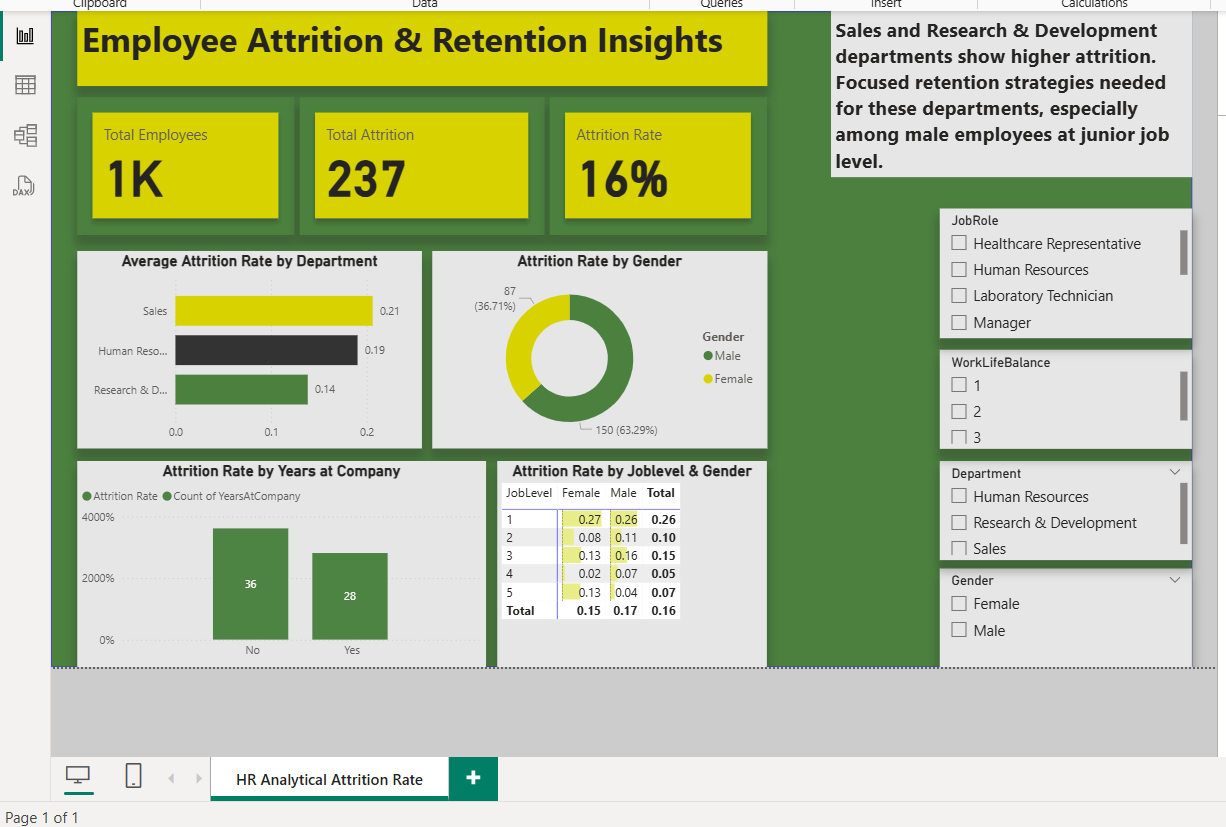

Layout of this report page (visuals, bound fields, positions):
{"tool":"powerbi","page":{"name":"HR Analytical Attrition Rate","canvas":[1280,720],"ordinal":0},"visuals":[{"type":"shape","box":[0,0,1252.8,720.4],"z":0},{"type":"textbox","box":[28.8,0,757.5,82.3],"z":1000},{"type":"cardVisual","fields":{"Data":["hranalytics.Total Employees"]},"box":[28.8,94.7,238.8,150.9],"z":2000},{"type":"slicer","fields":{"Values":["hranalytics.Gender"]},"box":[975.6,612,277.2,108.4],"z":3000},{"type":"slicer","fields":{"Values":["hranalytics.Department"]},"box":[975.6,494,277.2,108.4],"z":4000},{"type":"slicer","fields":{"Values":["hranalytics.WorkLifeBalance"]},"box":[975.6,371.9,277.2,108.4],"z":5000},{"type":"slicer","fields":{"Values":["hranalytics.JobRole"]},"box":[975.6,216.8,277.2,142.7],"z":6000},{"type":"cardVisual","fields":{"Data":["hranalytics.Total Attrition"]},"box":[273.1,94.7,269,150.9],"z":7000},{"type":"cardVisual","fields":{"Data":["hranalytics.Attrition Rate"]},"box":[547.5,94.7,238.8,150.9],"z":8000},{"type":"barChart","title":" Average Attrition Rate by Department","fields":{"Y":["Avg(hranalytics.Attrition Flag)"],"Category":["hranalytics.Department"]},"box":[28.8,263.5,378.7,216.8],"z":9000},{"type":"donutChart","title":" Attrition Rate by Gender","fields":{"Category":["hranalytics.Gender"],"Y":["Sum(hranalytics.Attrition Flag)"]},"box":[418.5,263.5,367.8,216.8],"z":10000},{"type":"pivotTable","title":"Attrition Rate by Joblevel & Gender","fields":{"Rows":["hranalytics.JobLevel"],"Columns":["hranalytics.Gender"],"Values":["Avg(hranalytics.Attrition Flag)"]},"box":[489.9,494,296.4,226.4],"z":11000},{"type":"columnChart","title":"Attrition Rate by Years at Company","fields":{"Y":["hranalytics.Attrition Rate","Count(hranalytics.YearsAtCompany)"],"Category":["hranalytics.Attrition"]},"box":[28.8,494,448.7,226.4],"z":12000},{"type":"textbox","box":[856.3,0,396.6,182.5],"z":13000}]}

Visuals, with their boxes in screenshot pixels (x1, y1, x2, y2):
shape: 48:6:1189:663
textbox: 74:6:764:81
cardVisual - hranalytics.Total Employees: 74:93:292:230
slicer - hranalytics.Gender: 937:564:1189:663
slicer - hranalytics.Department: 937:456:1189:555
slicer - hranalytics.WorkLifeBalance: 937:345:1189:444
slicer - hranalytics.JobRole: 937:204:1189:334
cardVisual - hranalytics.Total Attrition: 297:93:542:230
cardVisual - hranalytics.Attrition Rate: 547:93:764:230
" Average Attrition Rate by Department" barChart: 74:246:419:444
" Attrition Rate by Gender" donutChart: 429:246:764:444
"Attrition Rate by Joblevel & Gender" pivotTable: 494:456:764:663
"Attrition Rate by Years at Company" columnChart: 74:456:483:663
textbox: 828:6:1189:173
